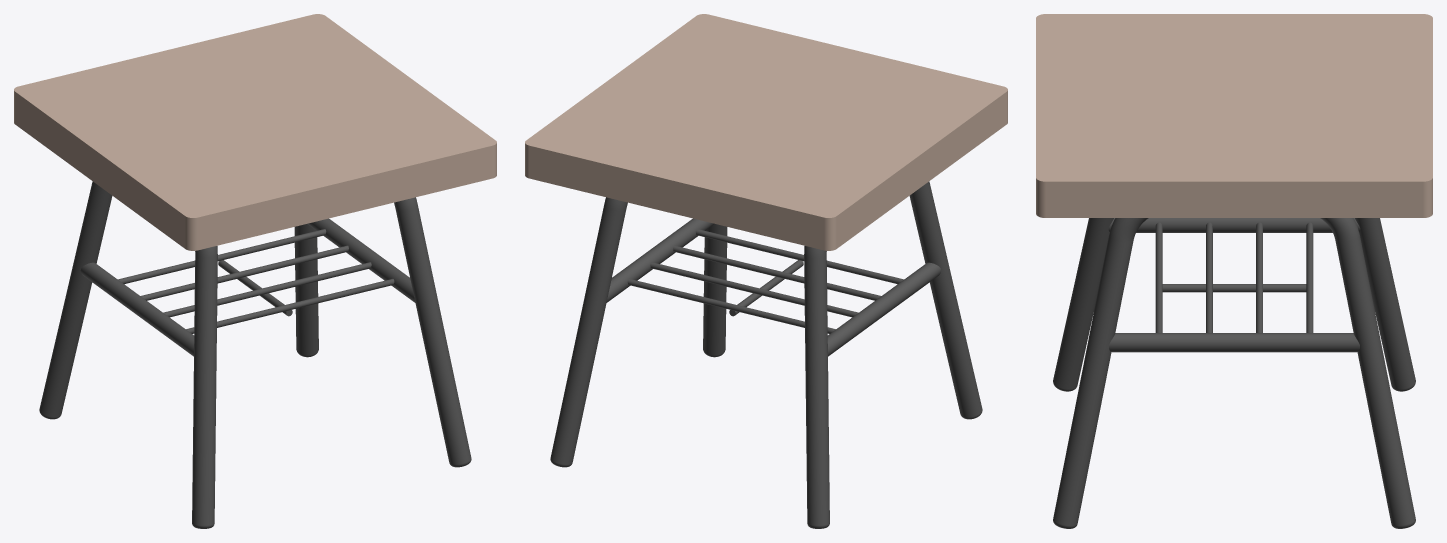
File: 352_サイドテーブル.glb
3 renders of one model, left to right at view 1: azimuth 30°, elevation 25°; view 2: azimuth 150°, elevation 25°; view 3: azimuth 270°, elevation 25°, orthographic. The views are drawn at different scales.
Parts seen in each view (by area): view 1: Body1; view 2: Body1; view 3: Body1.
Part boxes in pixels (bbox=[...]): Body1: bbox=[14, 14, 496, 528]; Body1: bbox=[525, 14, 1007, 528]; Body1: bbox=[1036, 14, 1432, 528].
Bounding box in the file's own units: 0.395 × 0.3954 × 0.395.
